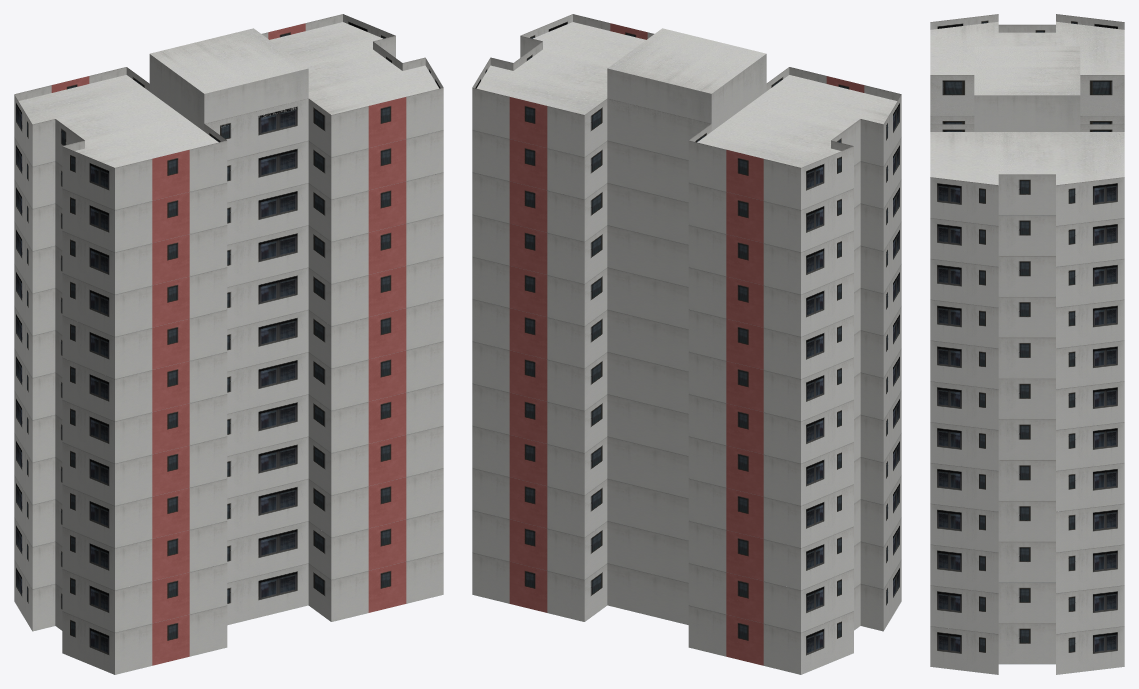
Rendered from Building-02b.fbx.
3 views of the same model, side by side, from view 1: azimuth 30°, elevation 25°; view 2: azimuth 150°, elevation 25°; view 3: azimuth 270°, elevation 25° (orthographic). The views are drawn at different scales.
Visible parts, largest first — view 1: Building-02; view 2: Building-02; view 3: Building-02.
Part boxes in pixels (x1,y1,x2,y2): Building-02: [14, 14, 443, 674]; Building-02: [472, 14, 901, 674]; Building-02: [930, 14, 1124, 674].
Bounding box in the file's own units: 4578 × 6464 × 2195.
